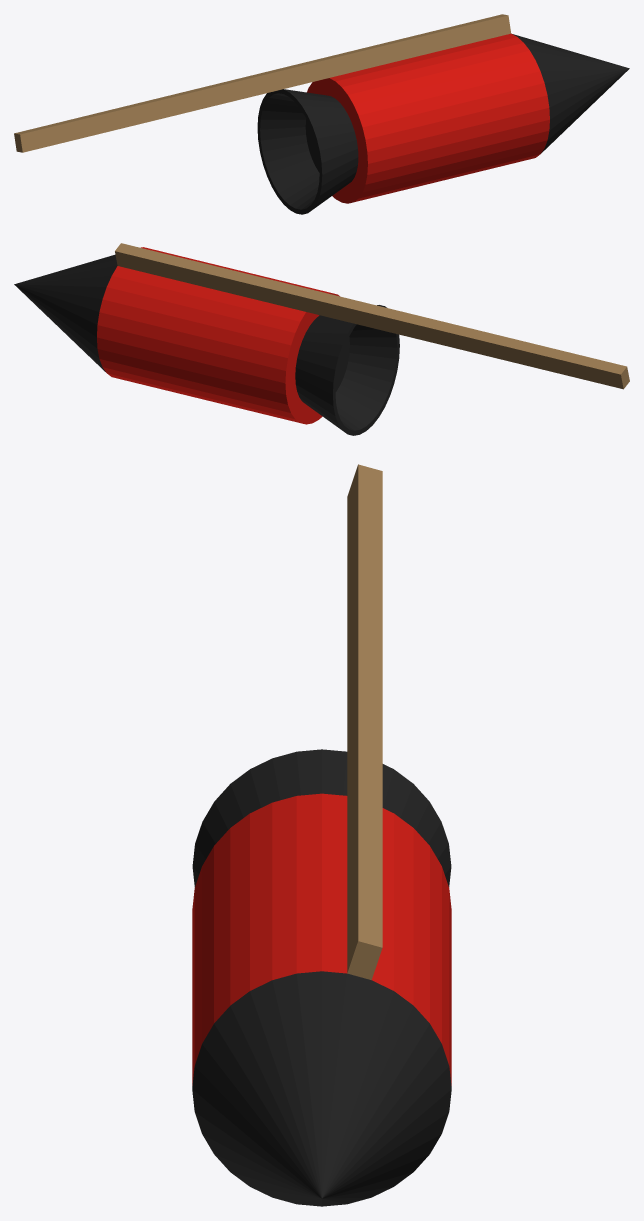
File: Rocket.fbx
3 renders of one model, top to bottom at view 1: azimuth 30°, elevation 25°; view 2: azimuth 150°, elevation 25°; view 3: azimuth 270°, elevation 25°, orthographic. The views are drawn at different scales.
Parts seen in each view (by area): view 1: Cone; view 2: Cone; view 3: Cone.
Part boxes in pixels (x1=…): Cone: x1=14, y1=14, x2=629, y2=214; Cone: x1=14, y1=243, x2=629, y2=435; Cone: x1=192, y1=464, x2=451, y2=1206.
Bounding box in the file's own units: 1069 × 226 × 200.
